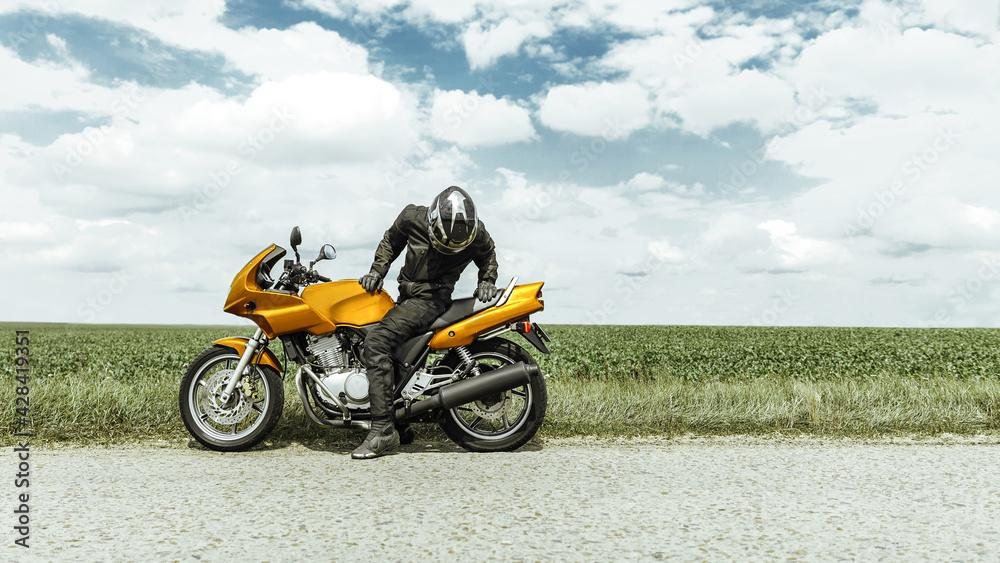helmet: (427, 184, 478, 256)
